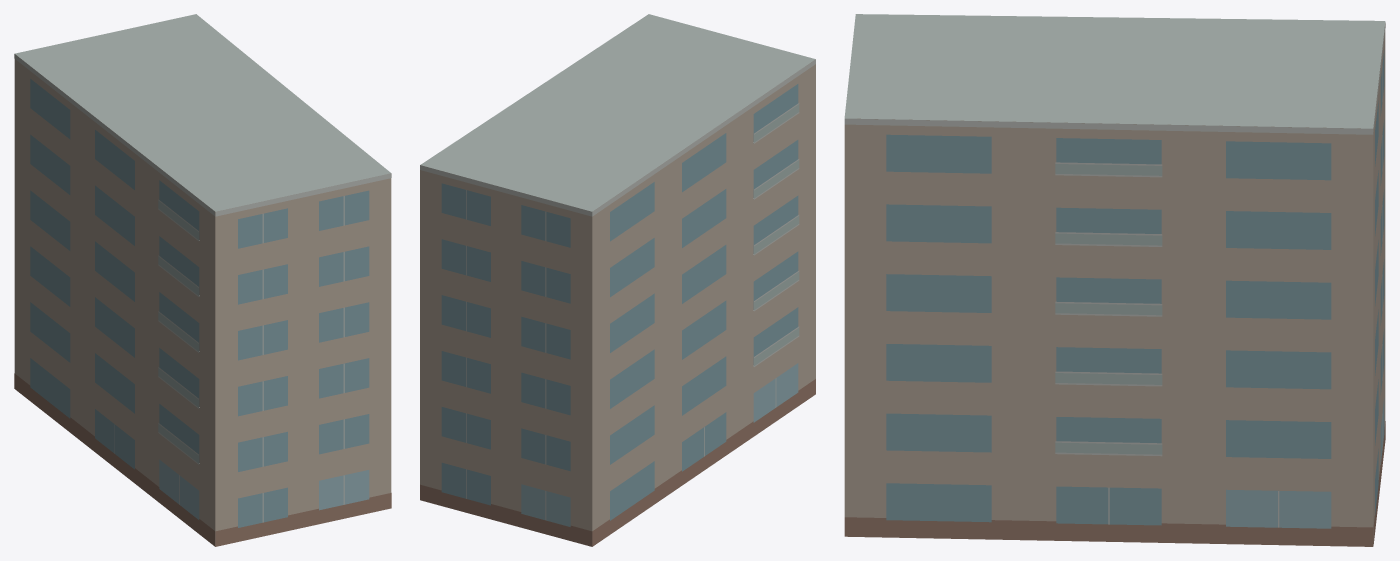
File: survey-upis-32653954.glb
3 views of the same model, side by side, from view 1: azimuth 30°, elevation 25°; view 2: azimuth 150°, elevation 25°; view 3: azimuth 270°, elevation 25° (orthographic). The views are drawn at different scales.
Visible parts, largest first — view 1: survey-upis-32653954.tmp; view 2: survey-upis-32653954.tmp; view 3: survey-upis-32653954.tmp.
Boxes of the visible parts, bbox=[...] form: survey-upis-32653954.tmp: bbox=[14, 14, 391, 546]; survey-upis-32653954.tmp: bbox=[420, 14, 815, 546]; survey-upis-32653954.tmp: bbox=[844, 14, 1385, 546].
Bounding box in the file's own units: 9.8 × 16.65 × 19.53.
